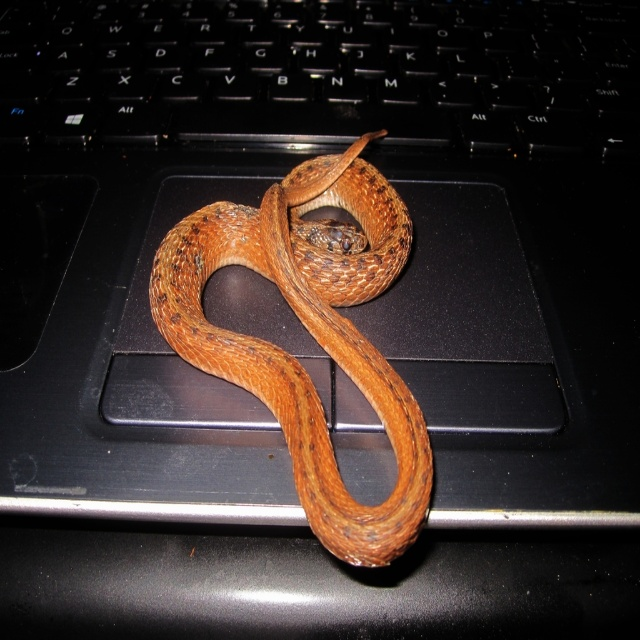Snake: (150, 128, 433, 570)
